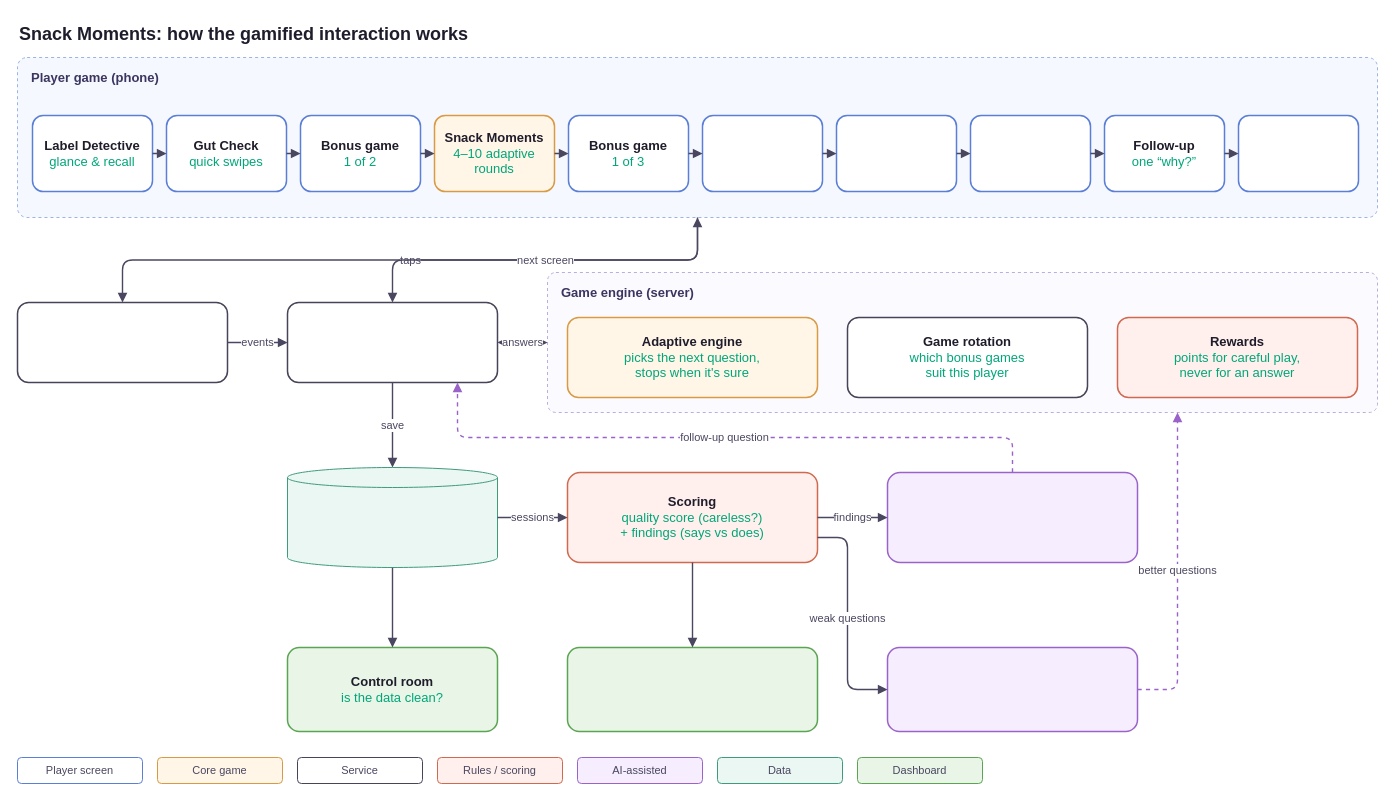
Some shapes in this 1396 by 801 pixel diagram are drawn without their labels. The centre of each missing label's shape, as x and y in pixels:
1–5 rating asked last: the point at 1030,153
Brand HQ what consumers really do: the point at 692,689
Contradiction check finds the biggest say vs do gap: the point at 1012,517
Database sessions · answers · events: the point at 392,517
Event tracker every tap and swipe, sent in batches: the point at 122,342
Guess the Crowd indirect question: the point at 762,153
Question Lab rewrites weak questions: the point at 1012,689
Reality check last real purchase: the point at 896,153
Results card your snack type: the point at 1298,153
Session API assigns test groups, sends the next screen: the point at 392,342
